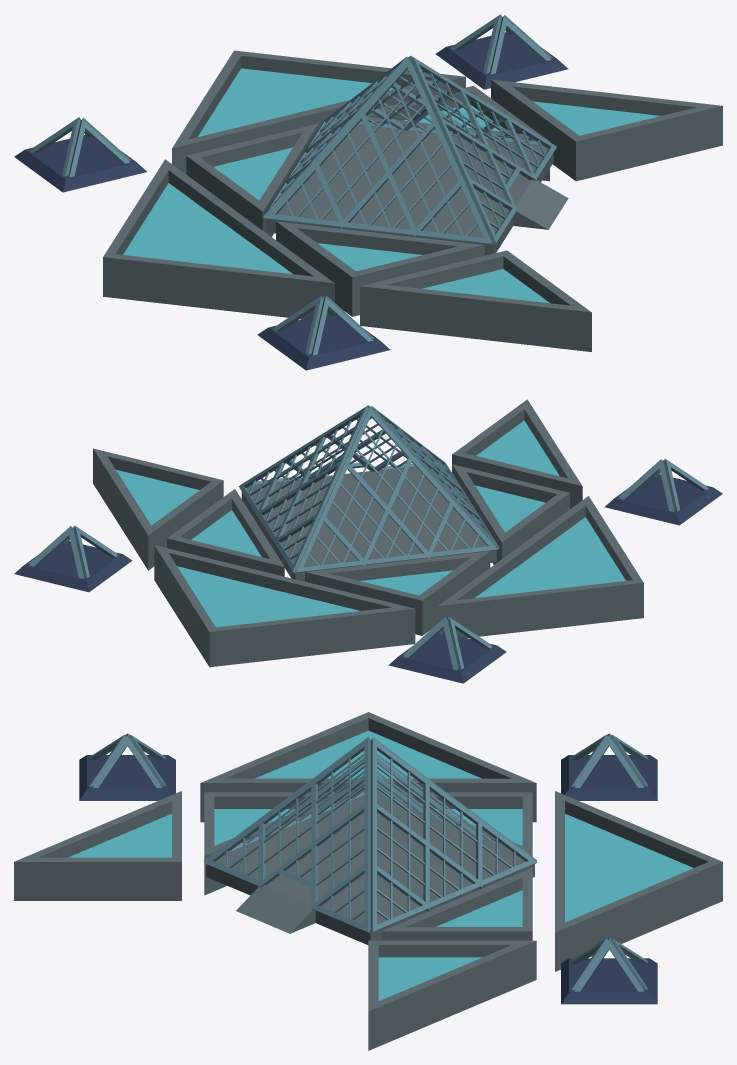
Rendered from louvreMuseum.FBX.
3 views of the same model, one above another, from view 1: azimuth 30°, elevation 25°; view 2: azimuth 150°, elevation 25°; view 3: azimuth 270°, elevation 25° (orthographic). The views are drawn at different scales.
Parts seen in each view (by area): view 1: louvreMuseum; view 2: louvreMuseum; view 3: louvreMuseum.
Boxes of the visible parts, <box> form: louvreMuseum: <box>14,14,722,370</box>; louvreMuseum: <box>14,399,722,683</box>; louvreMuseum: <box>14,712,722,1050</box>.
Bounding box in the file's own units: 11.79 × 2.98 × 11.79.
